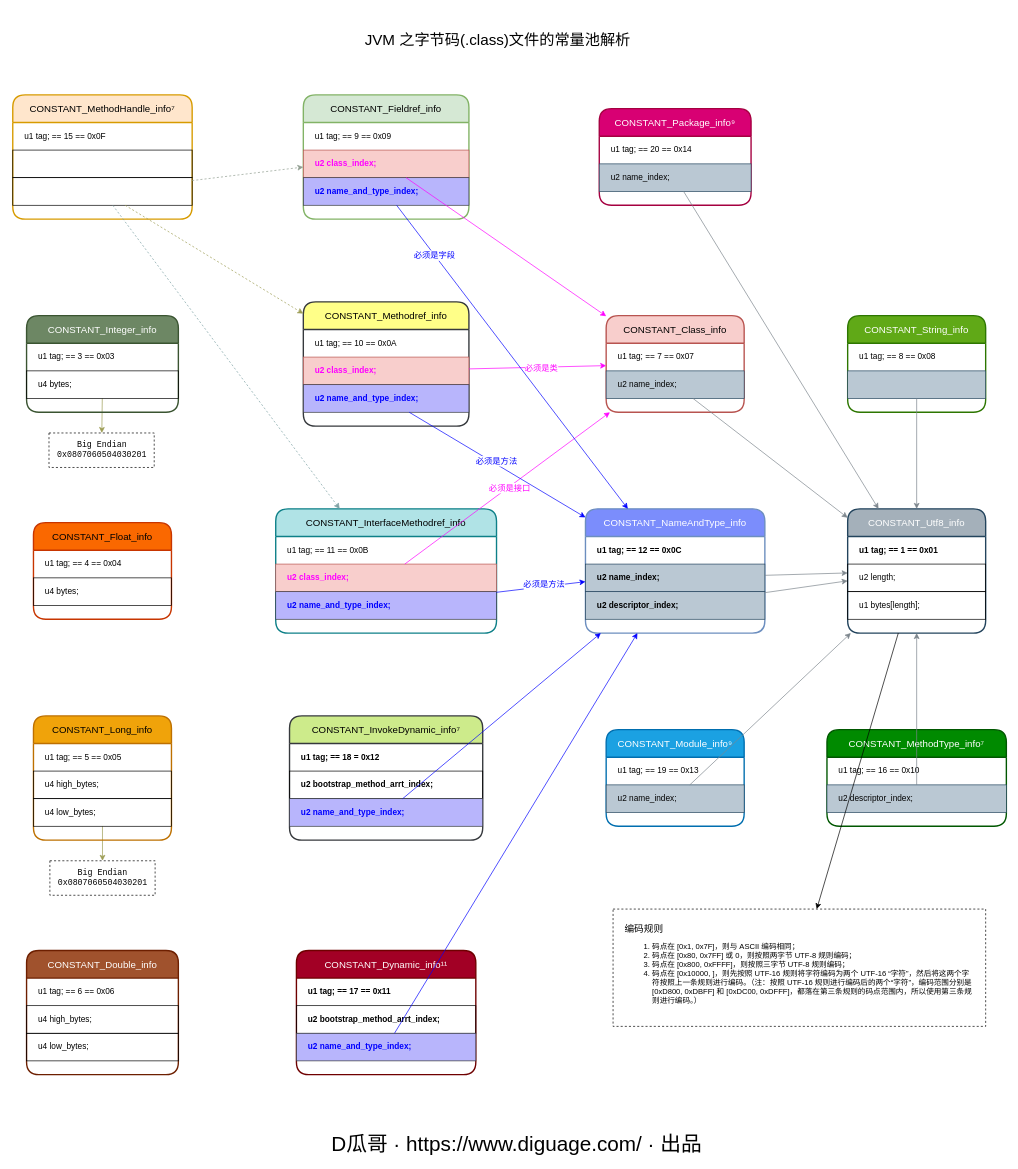
This 1018x1169 diagram has some shape labels left out. The centre of each missing label's shape, as x and y in pixels:
"u2 reference_index;" belongs at pixel 102 191.
"u2 reference_kind;" belongs at pixel 102 163.
"u2 string_index;" belongs at pixel 916 384.
